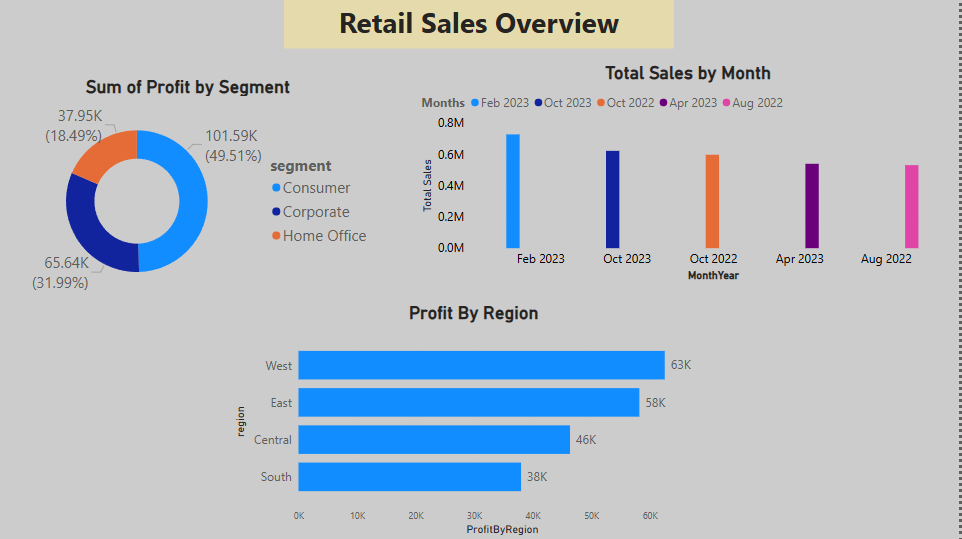

Layout of this report page (visuals, bound fields, positions):
{"tool":"powerbi","page":{"name":"Page 1","canvas":[1280,720],"ordinal":1},"visuals":[{"type":"textbox","box":[380.2,0,519.7,66.1],"z":0},{"type":"donutChart","title":"Sum of Profit by Segment","fields":{"Category":["df_orders (2).segment"],"Y":["Sum(df_orders (2).profit)"]},"box":[0,101.5,509.5,278.8],"z":1000},{"type":"lineClusteredColumnComboChart","title":"Total Sales by Month","fields":{"Series":["df_orders (2).MonthYear"],"Y":["df_orders (2).TotalSales"],"Category":["df_orders (2).MonthYear"]},"box":[561.2,83.1,718.2,310.2],"z":2000},{"type":"clusteredBarChart","title":"Profit By Region","fields":{"Category":["df_orders (2).region"],"Y":["df_orders (2).ProfitByRegion"]},"box":[289.8,411.7,646.2,284.3],"z":3000}]}

Visuals, with their boxes in screenshot pixels (x1, y1, x2, y2), scaled from the page's 1280x720 canvas onto the 962x539 screenshot:
textbox: 286/0/676/49
"Sum of Profit by Segment" donutChart: 0/76/383/285
"Total Sales by Month" lineClusteredColumnComboChart: 422/62/961/294
"Profit By Region" clusteredBarChart: 218/308/703/521
